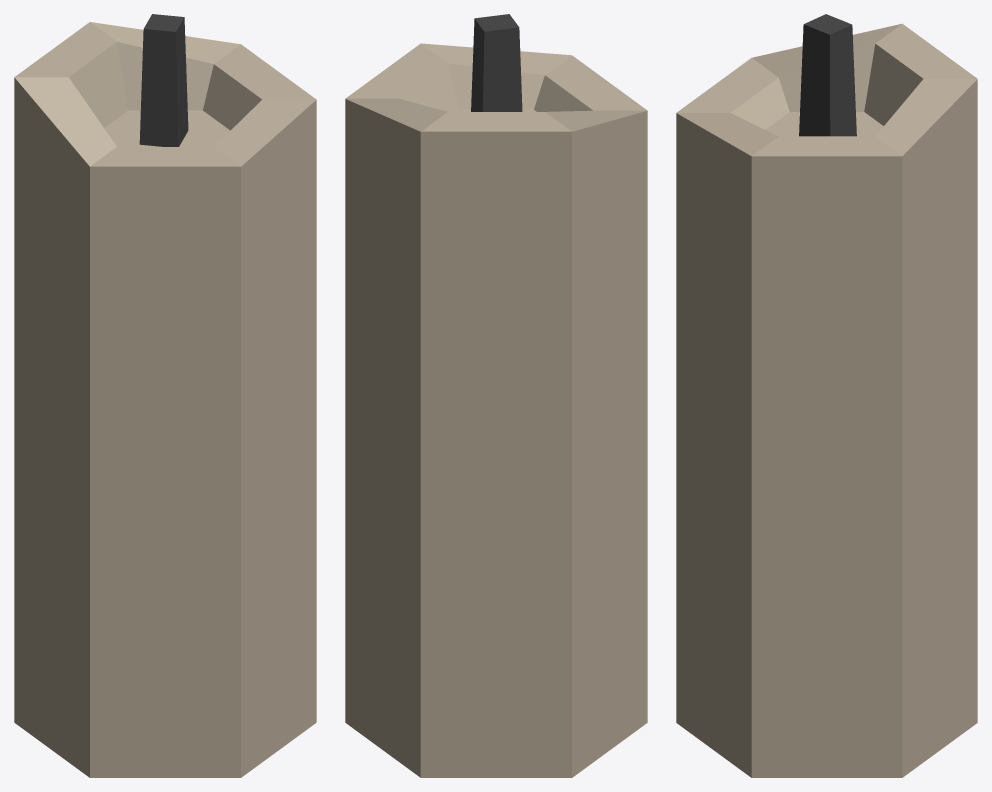
The model's file is SM_Prop_Candles_01.fbx.
3 views of the same model, side by side, from view 1: azimuth 30°, elevation 25°; view 2: azimuth 150°, elevation 25°; view 3: azimuth 270°, elevation 25° (orthographic).
Visible parts, largest first — view 1: SM_Prop_Candles_01; view 2: SM_Prop_Candles_01; view 3: SM_Prop_Candles_01.
Part boxes in pixels (x1,y1,x2,y2): SM_Prop_Candles_01: (14, 14, 316, 777); SM_Prop_Candles_01: (345, 14, 647, 777); SM_Prop_Candles_01: (676, 14, 977, 777).
Bounding box in the file's own units: 6.21 × 18.31 × 7.17.
